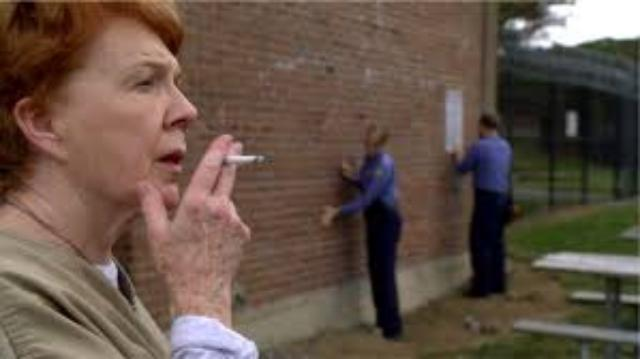Cigarette: (216, 156, 266, 164)
